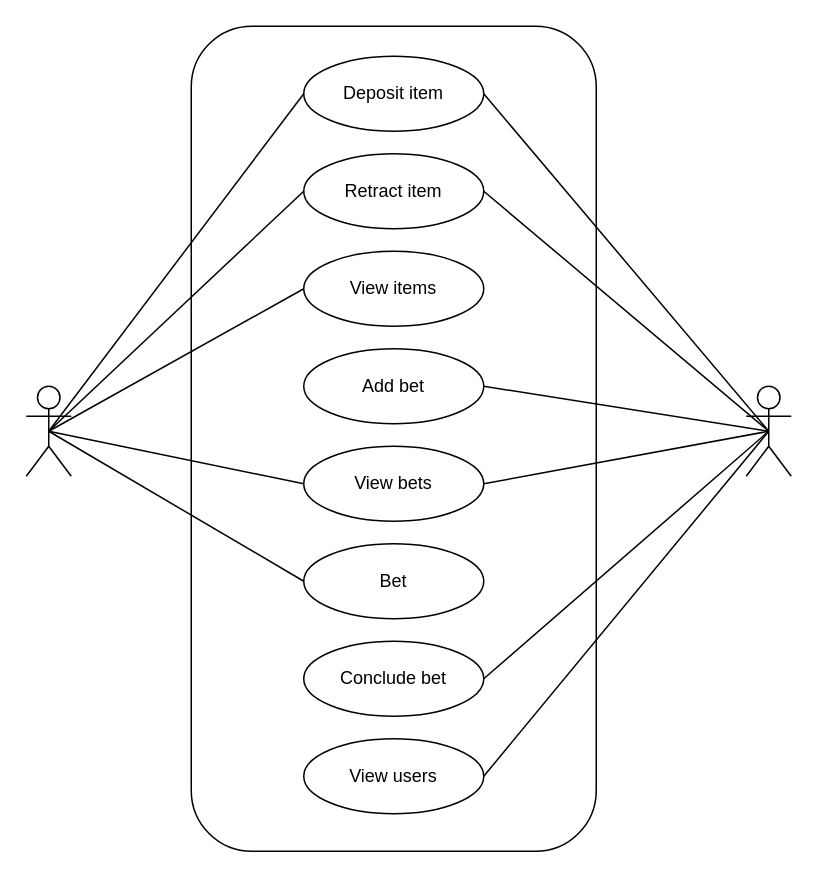
Some shapes in this 821 by 878 pixel diagram are drawn without their labels. Here are the shapes that lost their labels. From the top down, the centre of each, then its label:
At point (48, 430): "User".
At point (768, 430): "Admin".
